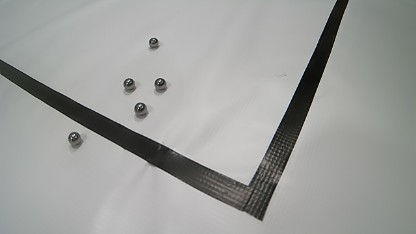ironball: (133, 102, 147, 116), (68, 131, 81, 145), (154, 77, 166, 90), (123, 78, 135, 91), (148, 37, 158, 49)
